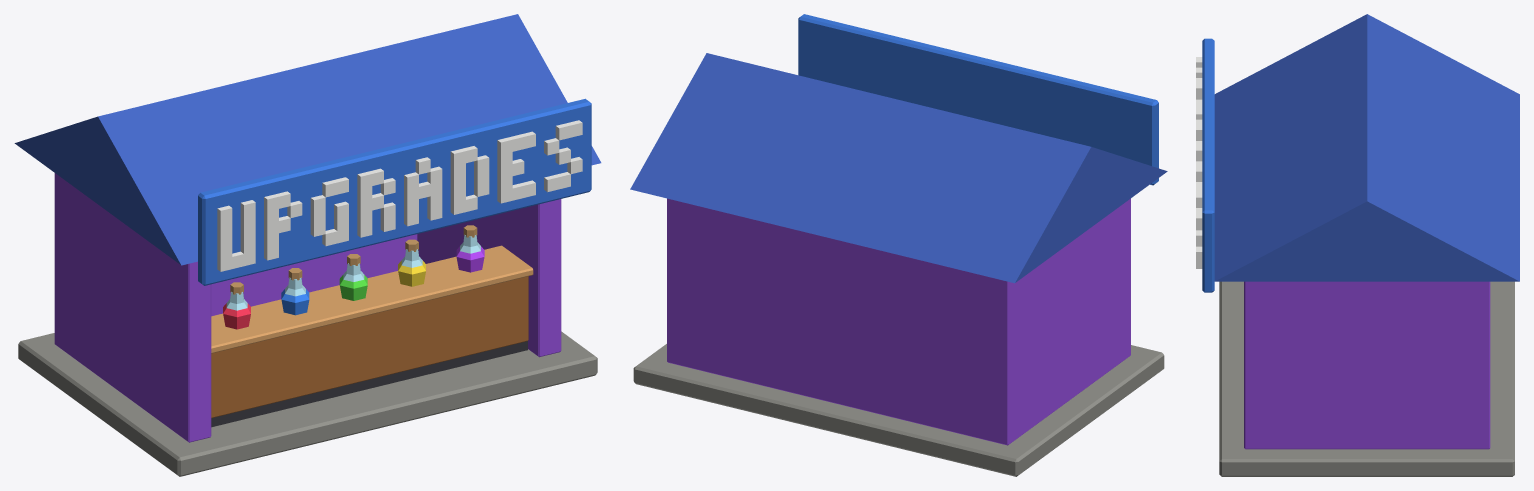
Rendered from UpgradeShop.fbx.
3 views of the same model, side by side, from view 1: azimuth 30°, elevation 25°; view 2: azimuth 150°, elevation 25°; view 3: azimuth 270°, elevation 25° (orthographic). The views are drawn at different scales.
Parts seen in each view (by area): view 1: UpgradeShop; view 2: UpgradeShop; view 3: UpgradeShop.
Part boxes in pixels (bbox=[...]): UpgradeShop: bbox=[14, 14, 601, 476]; UpgradeShop: bbox=[630, 14, 1167, 476]; UpgradeShop: bbox=[1196, 14, 1519, 476].
Bounding box in the file's own units: 18 × 12.4 × 13.15.
1 material, 1 textured.
